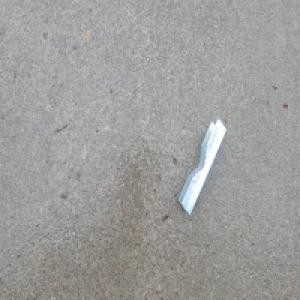ClampPart: (178, 118, 226, 215)
